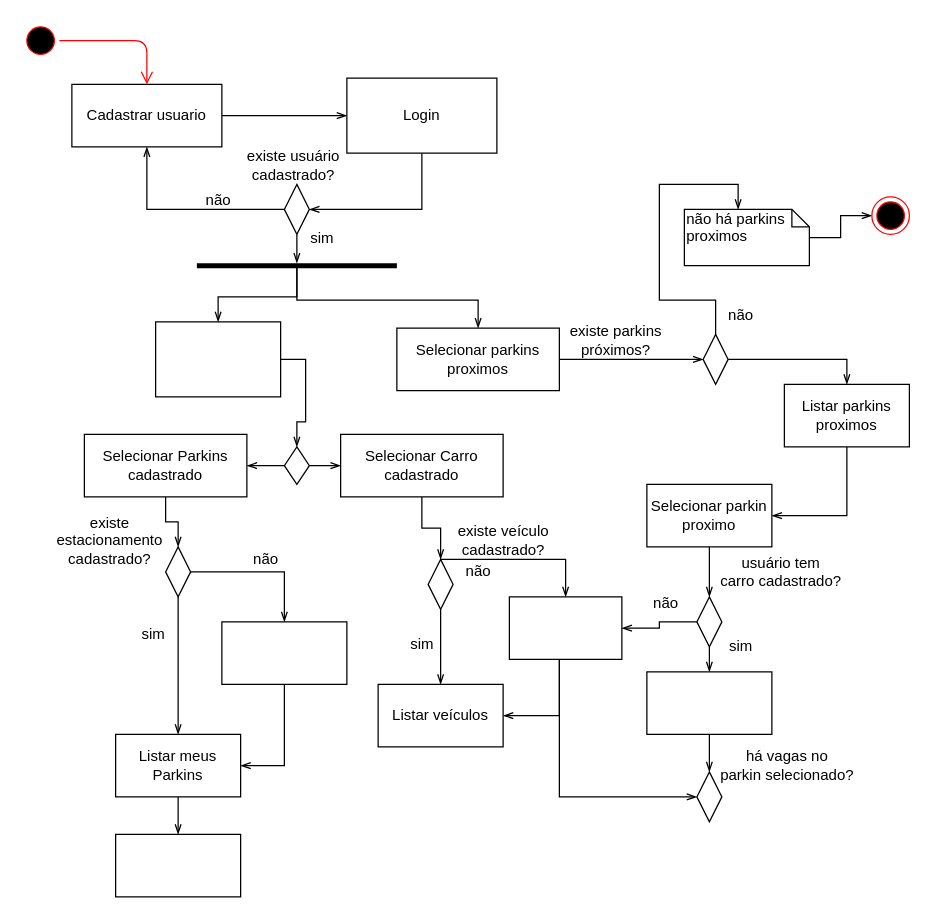
This 931x919 diagram has some shape labels left out. Each missing label, with the box of its shape:
Cadastrar Parkin: (221, 621, 347, 684)
Cadastrar veículo: (508, 596, 622, 659)
Selecionar opção entre Parkin ou Veículo: (154, 321, 281, 397)
Selecionar parkin existente: (114, 833, 241, 897)
Selecionar veículo: (646, 671, 772, 734)
